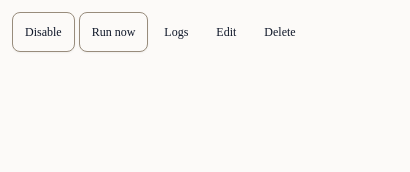
Test: ScheduleActions › deletes only after the confirmation is pressed
Click the button with aria-label "Delete: Morning scan" at (280, 32), box [252,12,308,52]
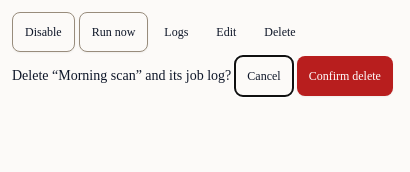
Click the button "Confirm delete" at (345, 76), box [297,56,393,96]
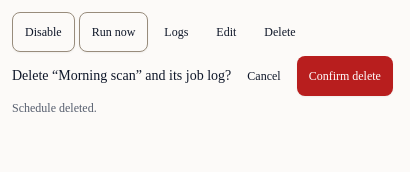
Expected: the message reads "Schedule deleted.", [12,101,97,115]
